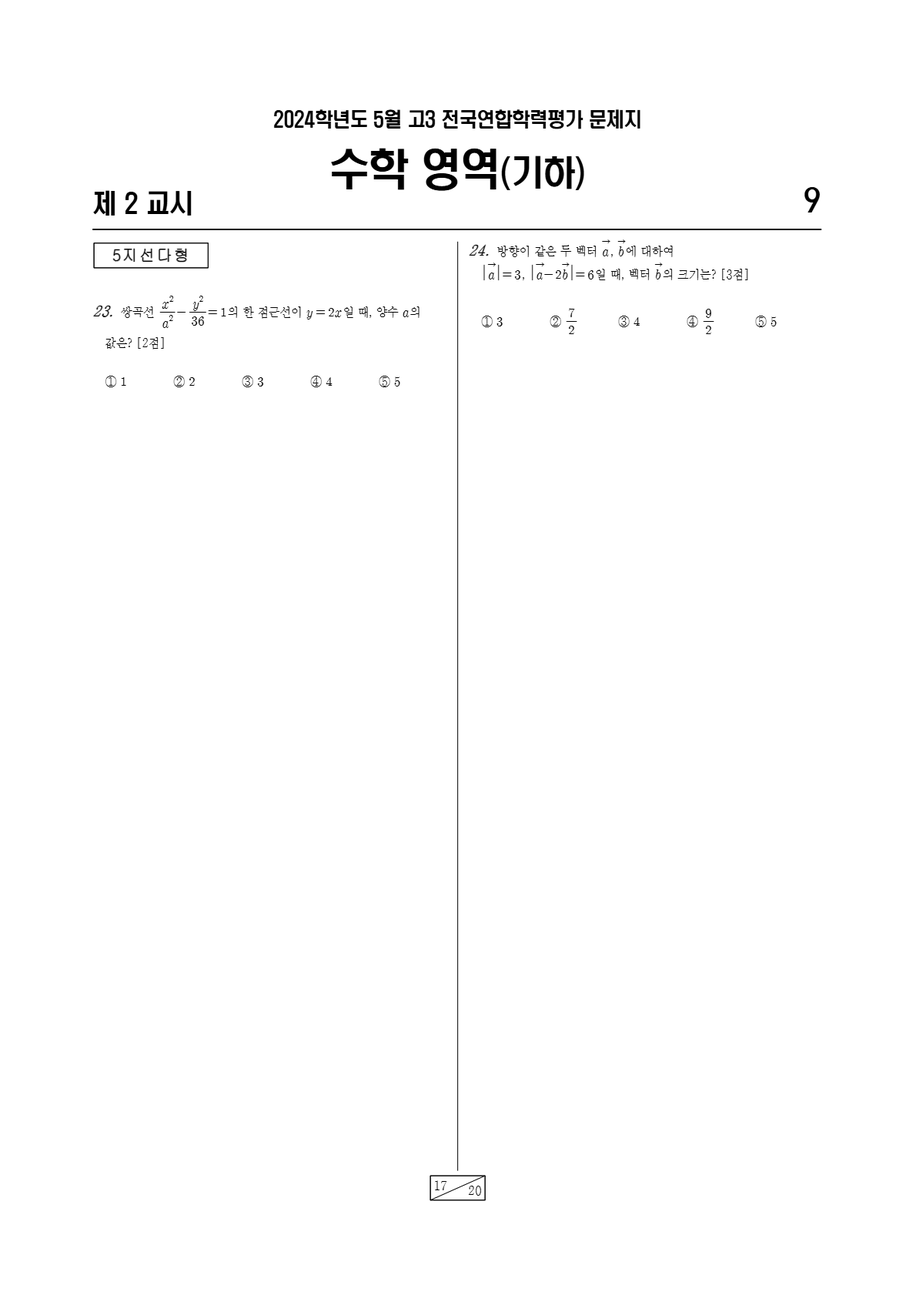opt_1: (103, 373, 117, 388), (481, 314, 493, 327)
opt_2: (173, 374, 185, 388), (550, 313, 560, 327)
opt_3: (242, 373, 253, 388), (617, 314, 629, 327)
opt_4: (309, 374, 322, 387), (686, 315, 699, 327)
opt_5: (754, 314, 767, 327), (378, 374, 390, 387)
